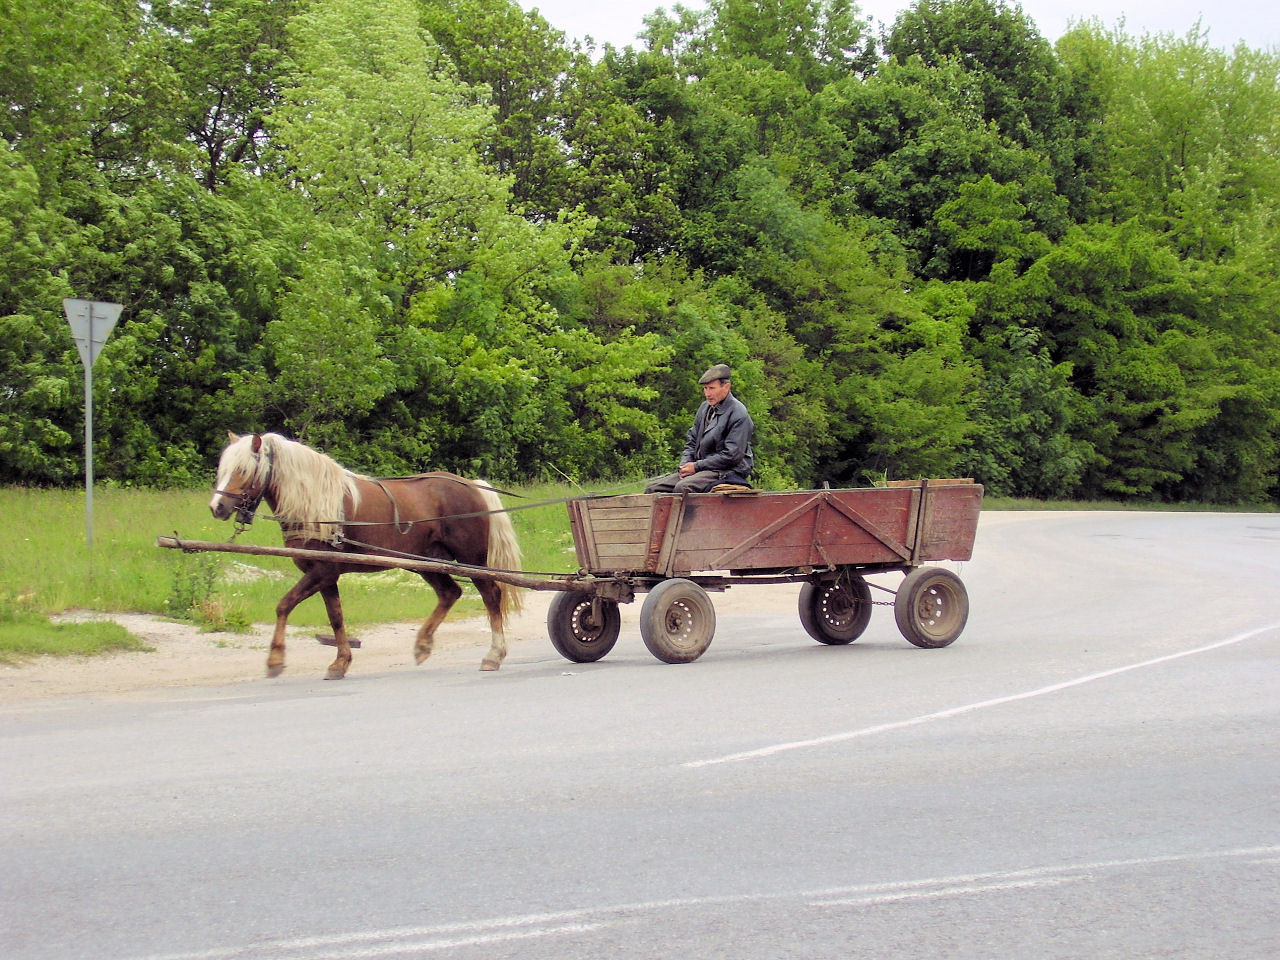horse: (210, 431, 525, 679)
